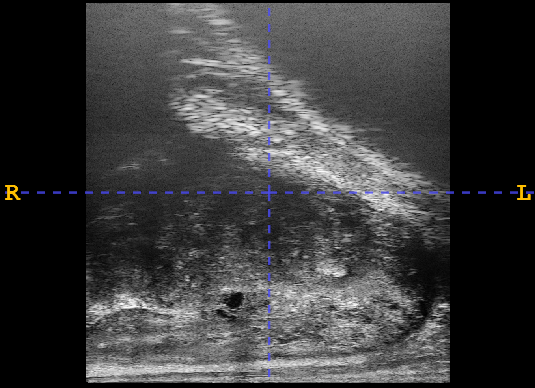calcifications: (244, 227, 362, 315)
